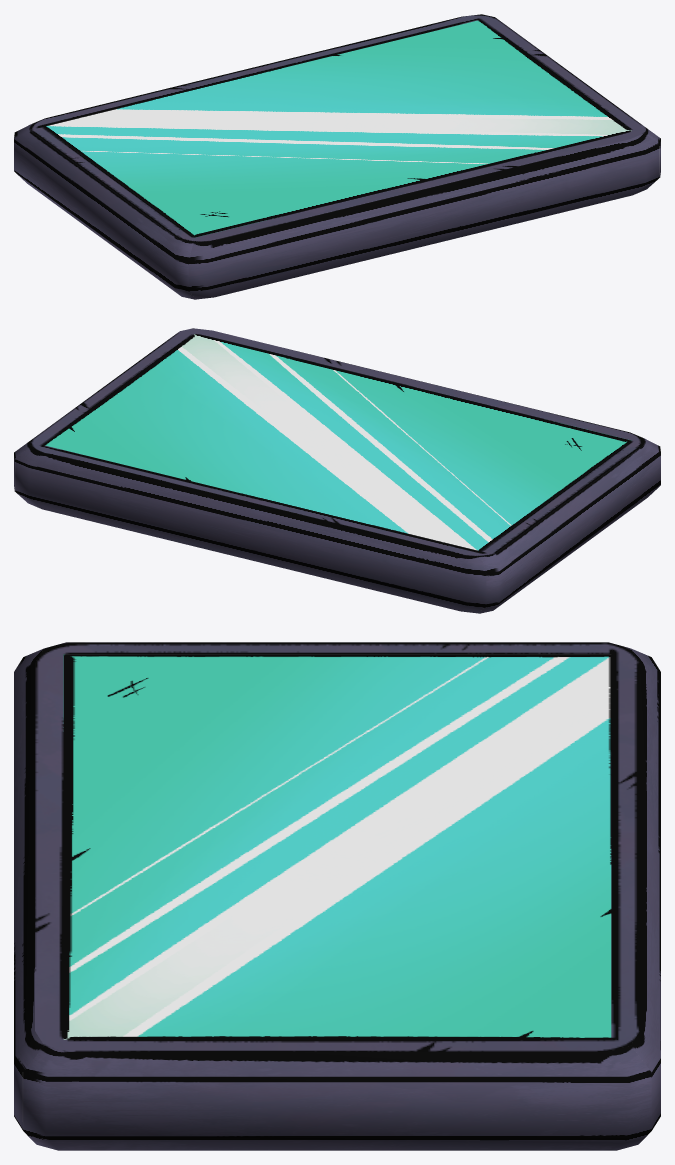
File: Misc_Phone.glb
3 renders of one model, top to bottom at view 1: azimuth 30°, elevation 25°; view 2: azimuth 150°, elevation 25°; view 3: azimuth 270°, elevation 25°, orthographic. The views are drawn at different scales.
Visible parts, largest first — view 1: Cube; view 2: Cube; view 3: Cube.
Boxes of the visible parts, x1,y1,x2,y2 form: Cube: (14, 14, 660, 299); Cube: (14, 328, 660, 613); Cube: (14, 642, 660, 1150).
Bounding box in the file's own units: 0.728 × 0.0783 × 0.4656.
1 material, 1 textured.
